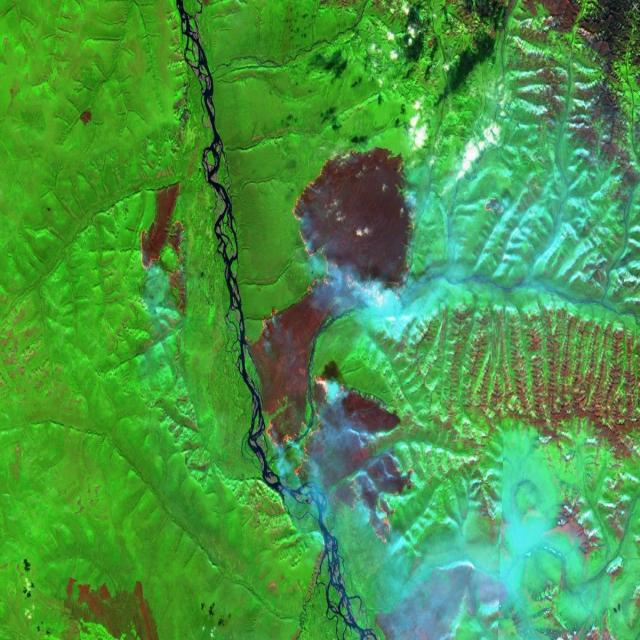fire: (264, 372, 402, 550), (290, 138, 415, 309), (137, 217, 188, 273)
